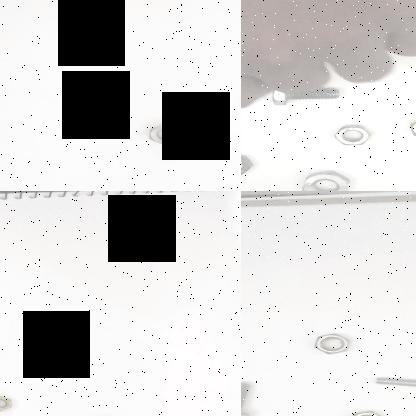Bolts: (268, 88, 349, 106), (370, 372, 416, 395), (241, 378, 257, 416)
NUTS: (327, 122, 371, 154), (301, 167, 355, 191), (306, 329, 354, 356), (148, 123, 186, 147), (52, 346, 86, 368), (241, 148, 259, 184), (344, 405, 386, 416), (400, 115, 416, 143), (0, 393, 16, 413)
